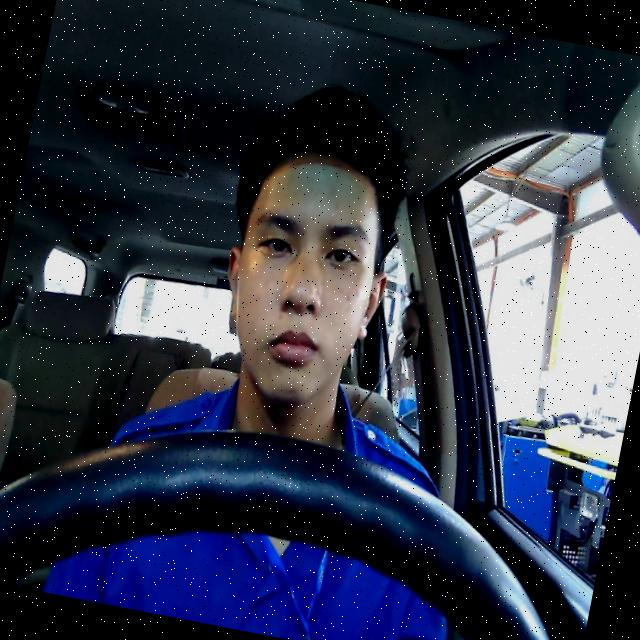focused: (200, 130, 409, 418)
